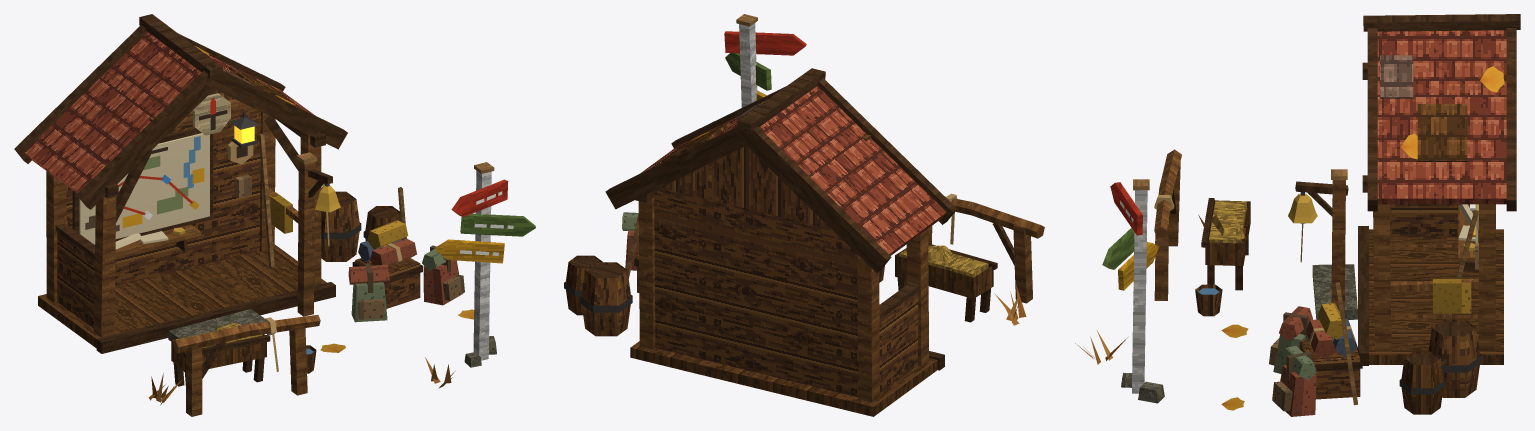
File: trail_lodge.glb
3 renders of one model, left to right at view 1: azimuth 30°, elevation 25°; view 2: azimuth 150°, elevation 25°; view 3: azimuth 270°, elevation 25°, orthographic. The views are drawn at different scales.
Visible parts, largest first — view 1: trail_lodge, sway_bell; view 2: trail_lodge; view 3: trail_lodge, sway_bell.
Boxes of the visible parts, left/top/right/bottom form: trail_lodge: left=14, top=14, right=535, bottom=416; sway_bell: left=315, top=183, right=340, bottom=246; trail_lodge: left=564, top=14, right=1044, bottom=416; trail_lodge: left=1075, top=14, right=1520, bottom=416; sway_bell: left=1288, top=192, right=1317, bottom=262.
Bounding box in the file's own units: 5.36 × 3.8 × 5.38.
Materials: 38 (21 with a texture image).
